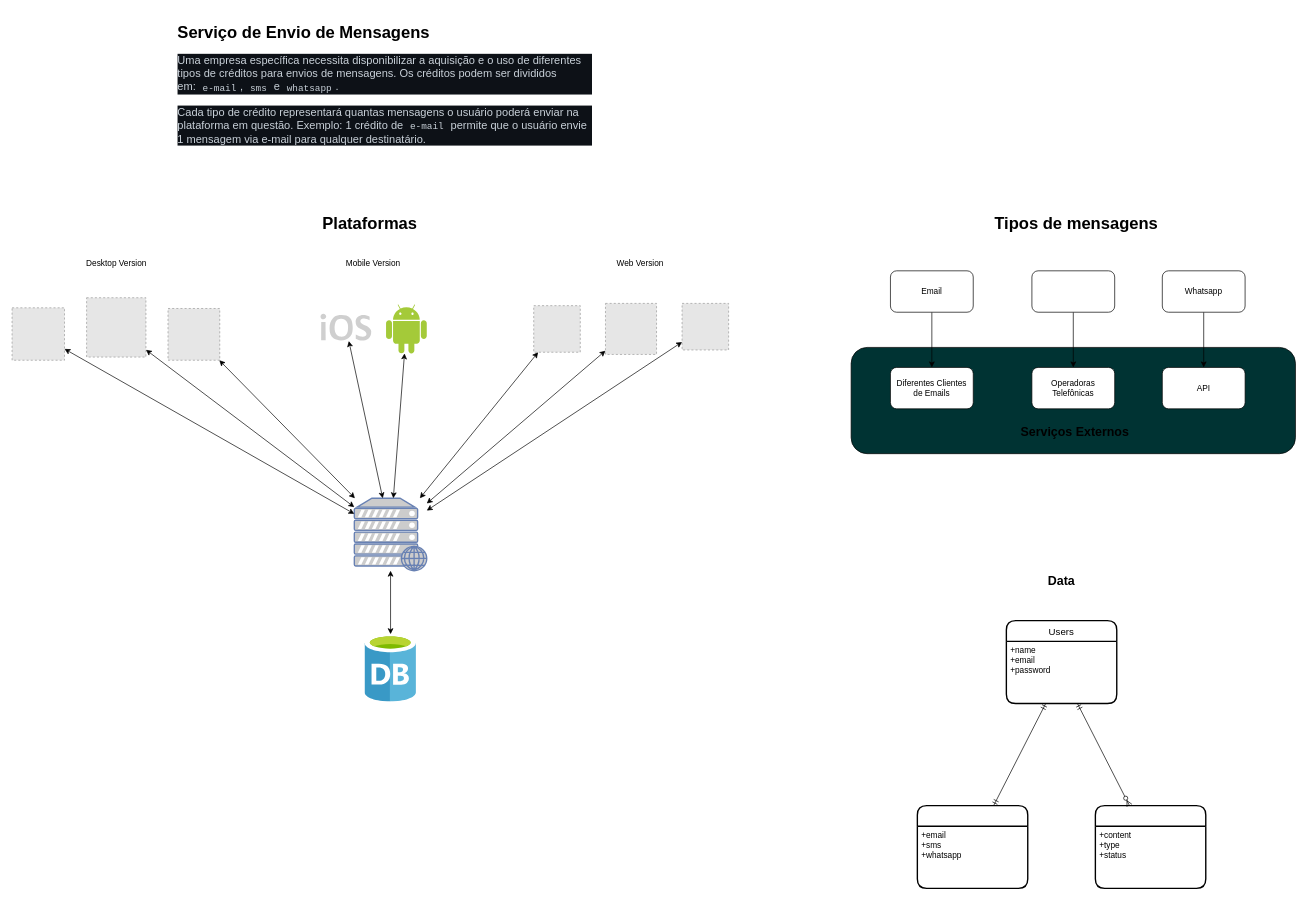
The diagram is 1308 pixels wide and 900 high, and some of its shapes have lost their labels. Grey dashed boxes stand in for pictures. The shapes that lost their labels are listed below. From the top down, each one's box as (x1, y1, x2, y2) in pixels, then its label:
(1031, 270, 1115, 312): SMS
(916, 805, 1028, 889): Credits
(1094, 805, 1206, 889): Messages
